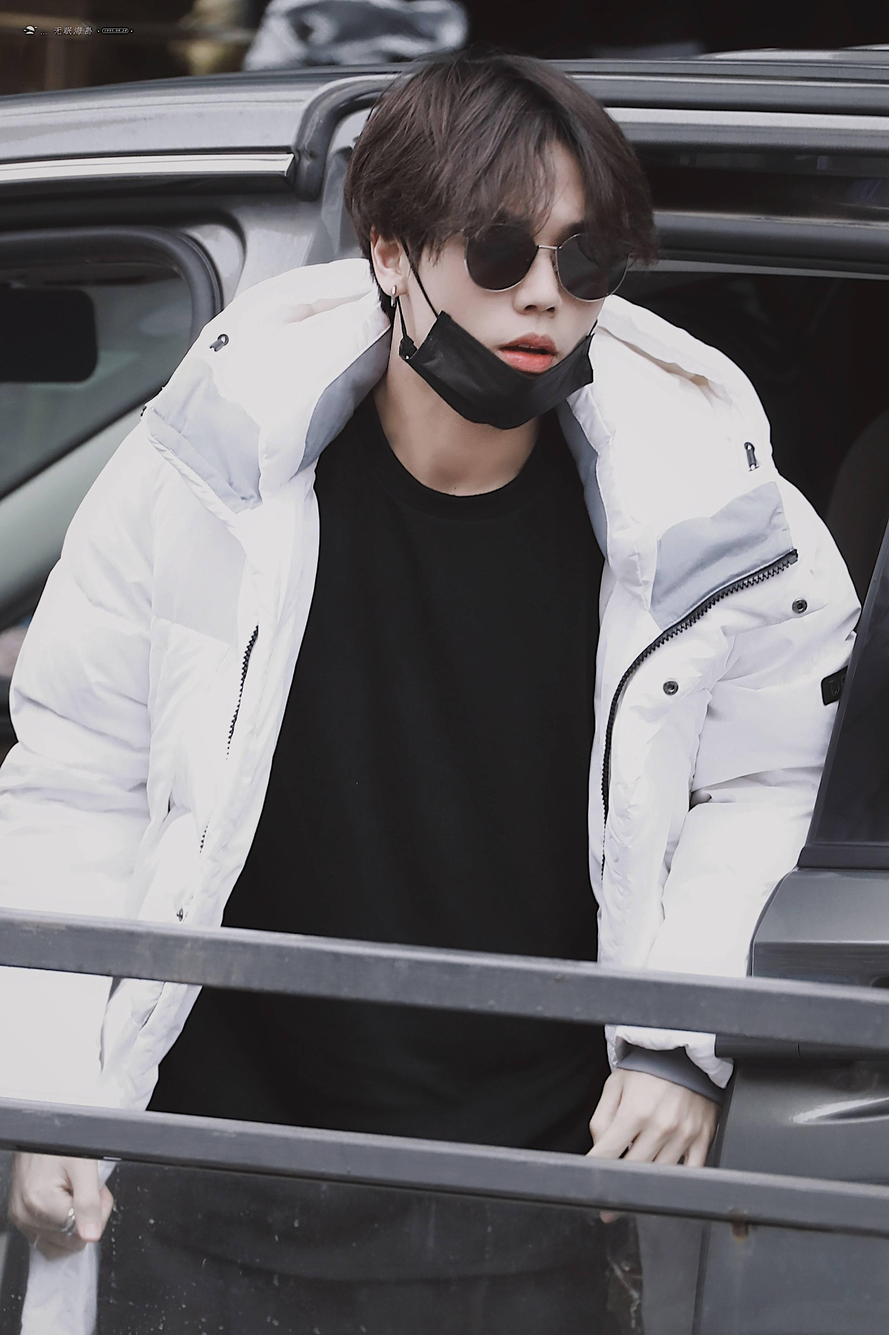WRONG: (417, 166, 607, 415)
